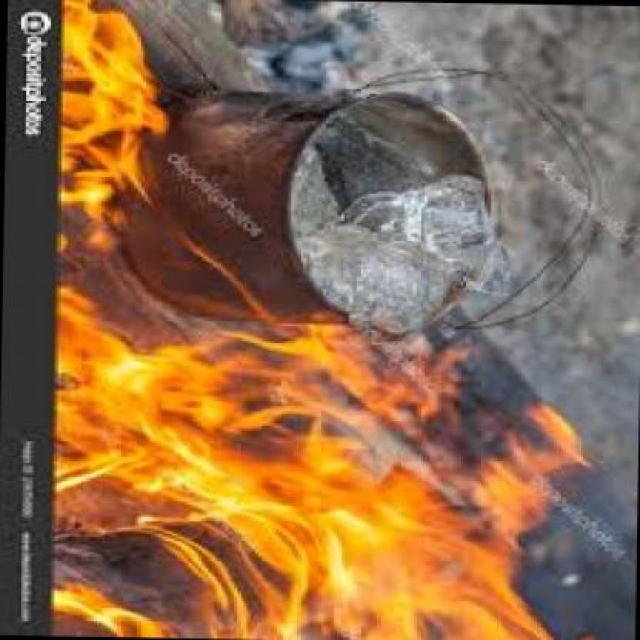Fire: (34, 287, 598, 640), (44, 0, 168, 250)
